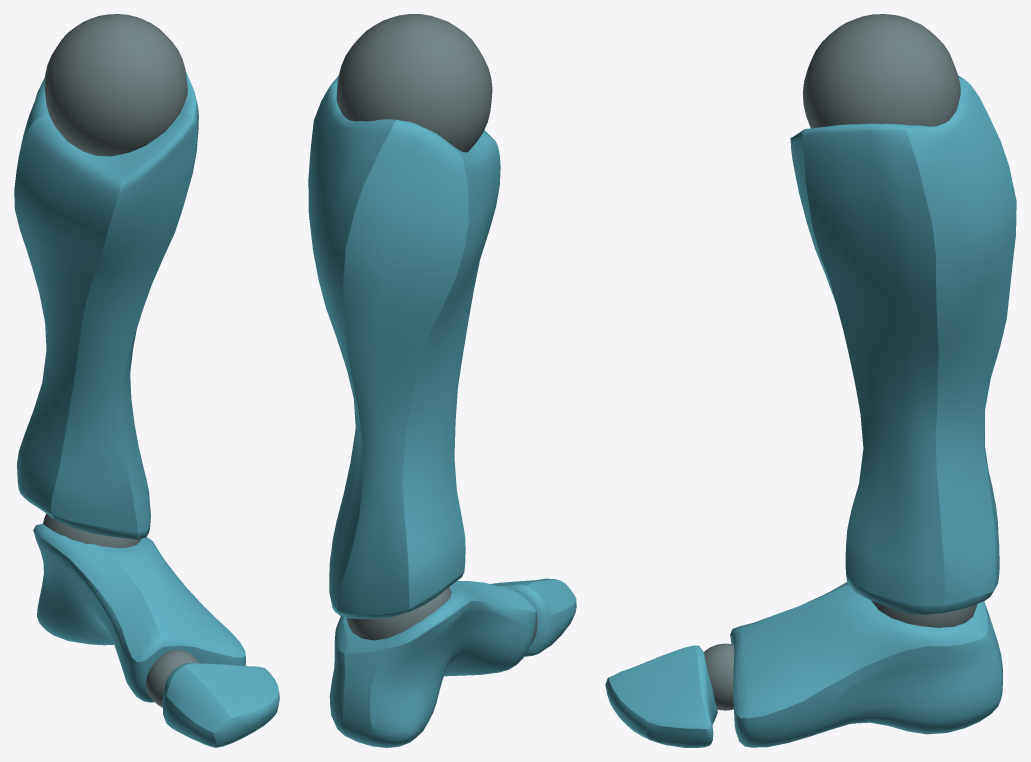
The model's file is leg.l.gltf.
The picture shows the model from 3 angles, left to right: view 1: azimuth 30°, elevation 25°; view 2: azimuth 150°, elevation 25°; view 3: azimuth 270°, elevation 25°; orthographic projection. The views are drawn at different scales.
Visible parts, largest first — view 1: leg.l; view 2: leg.l; view 3: leg.l.
Boxes of the visible parts, x1=… form: leg.l: x1=14, y1=14, x2=279, y2=747; leg.l: x1=308, y1=14, x2=576, y2=747; leg.l: x1=605, y1=14, x2=1016, y2=747.
Size of the model in its own units: 0.2889 by 1.17 by 0.6231.
